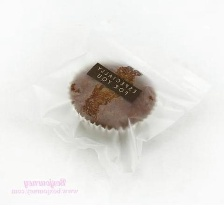snack: (2, 25, 219, 189)
